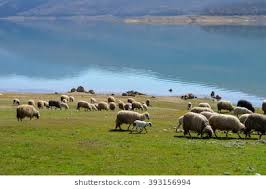sheep: (182, 111, 216, 140), (213, 113, 246, 137), (116, 110, 150, 127), (246, 111, 266, 137), (15, 104, 41, 121), (216, 100, 234, 114), (134, 120, 152, 131), (75, 101, 91, 112), (46, 99, 60, 110), (97, 101, 109, 110), (59, 101, 69, 111), (131, 101, 143, 109), (115, 100, 124, 110), (184, 100, 193, 110), (108, 101, 117, 110), (124, 102, 133, 111), (35, 99, 43, 108), (144, 98, 152, 107), (107, 94, 115, 102), (69, 95, 75, 102)
